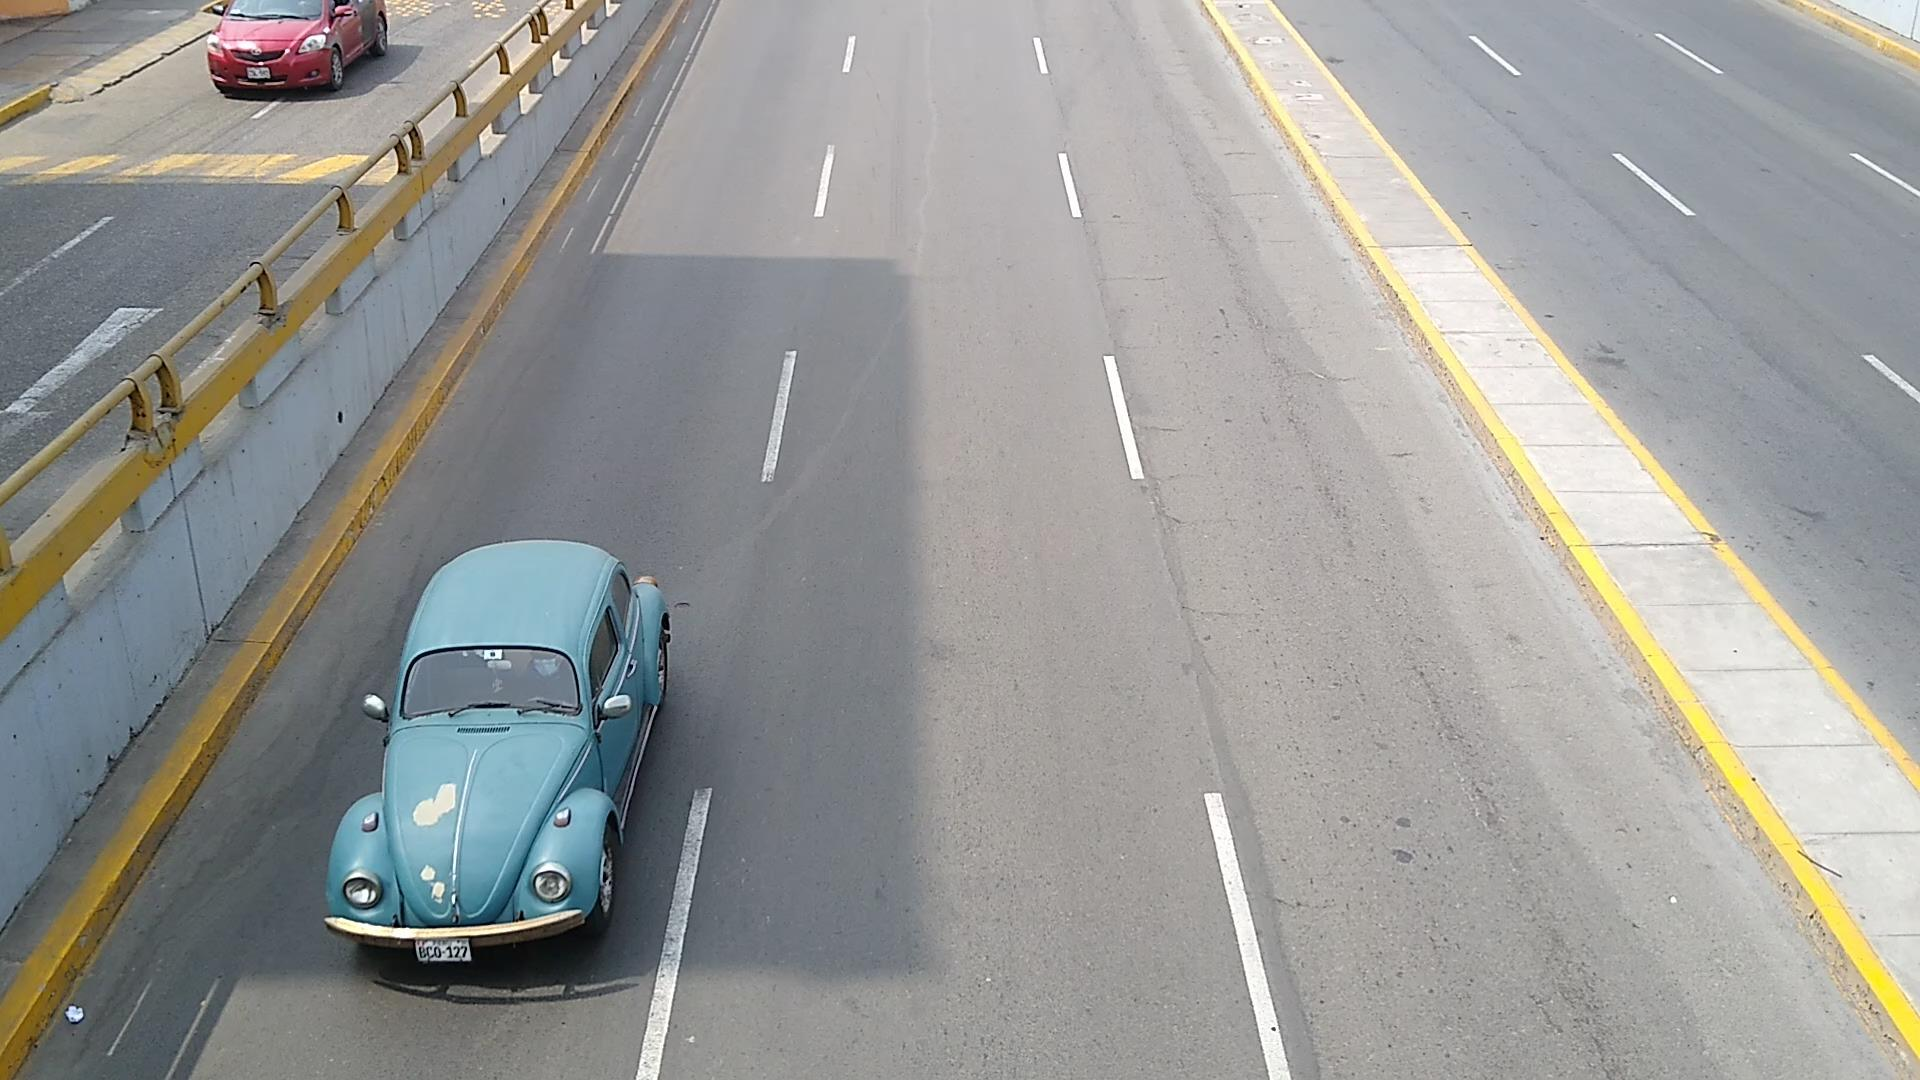car: (326, 541, 671, 960), (206, 0, 390, 94)
